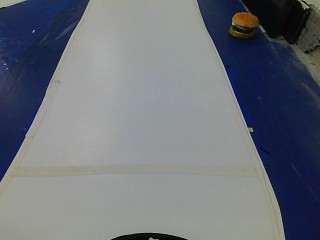burger: (222, 6, 263, 49)
